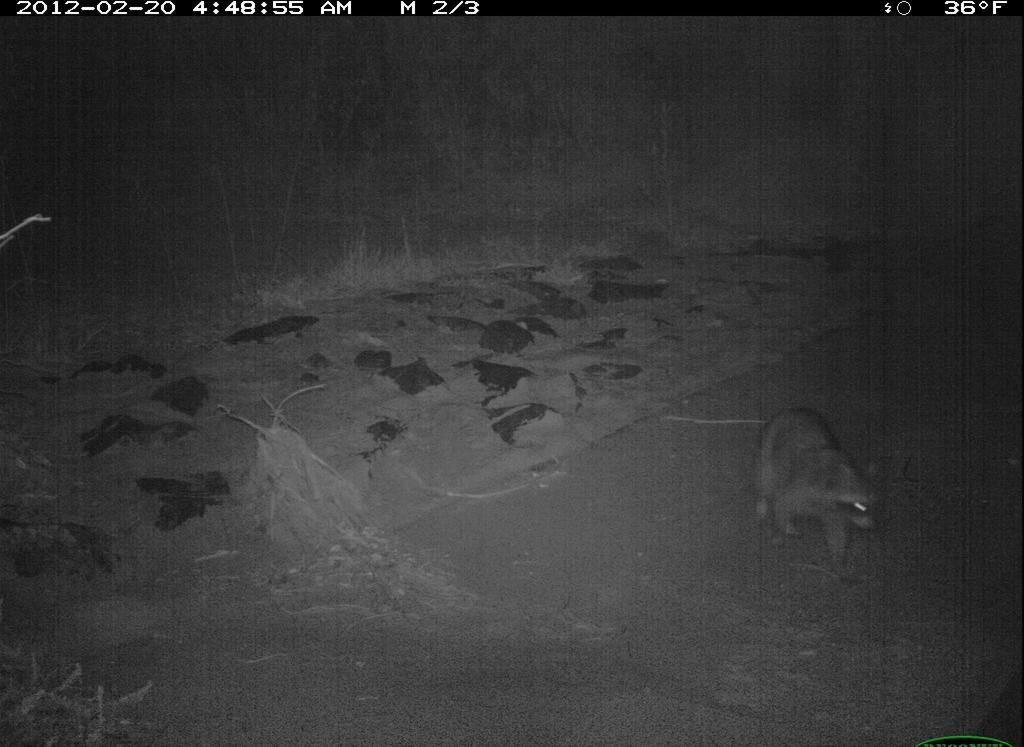raccoon: (734, 393, 904, 575)
